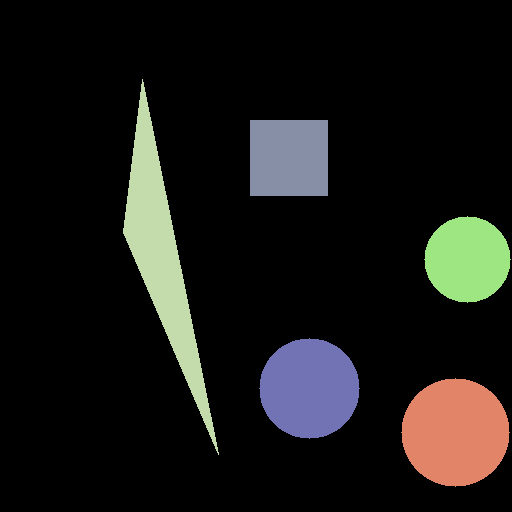circle: (401, 378, 509, 486), (259, 338, 359, 438), (424, 216, 510, 302)
square: (250, 120, 327, 195)
triangle: (123, 79, 218, 454)
